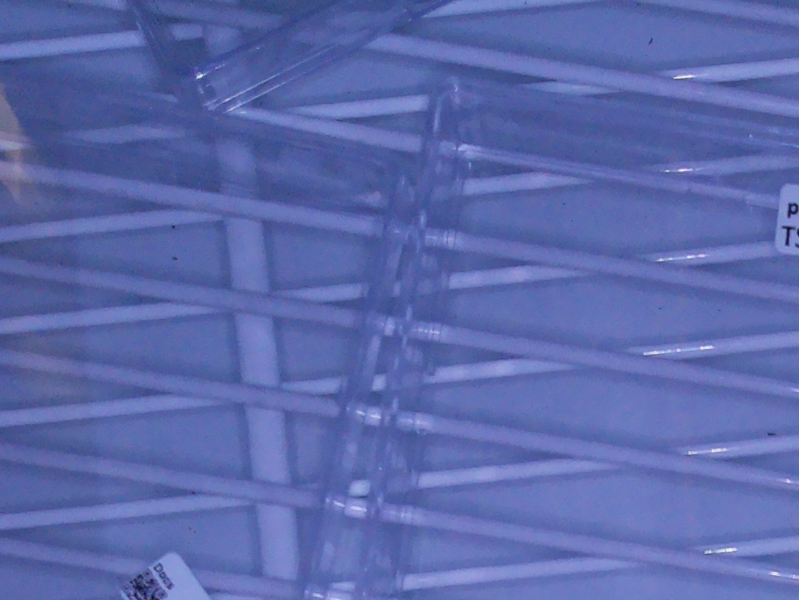plate: (347, 73, 799, 600), (1, 68, 408, 600), (128, 1, 453, 118)
